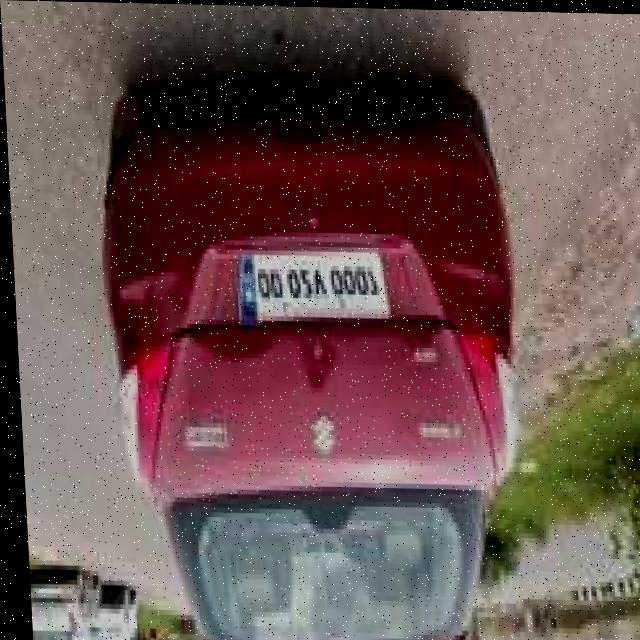plate: (229, 244, 389, 324)
